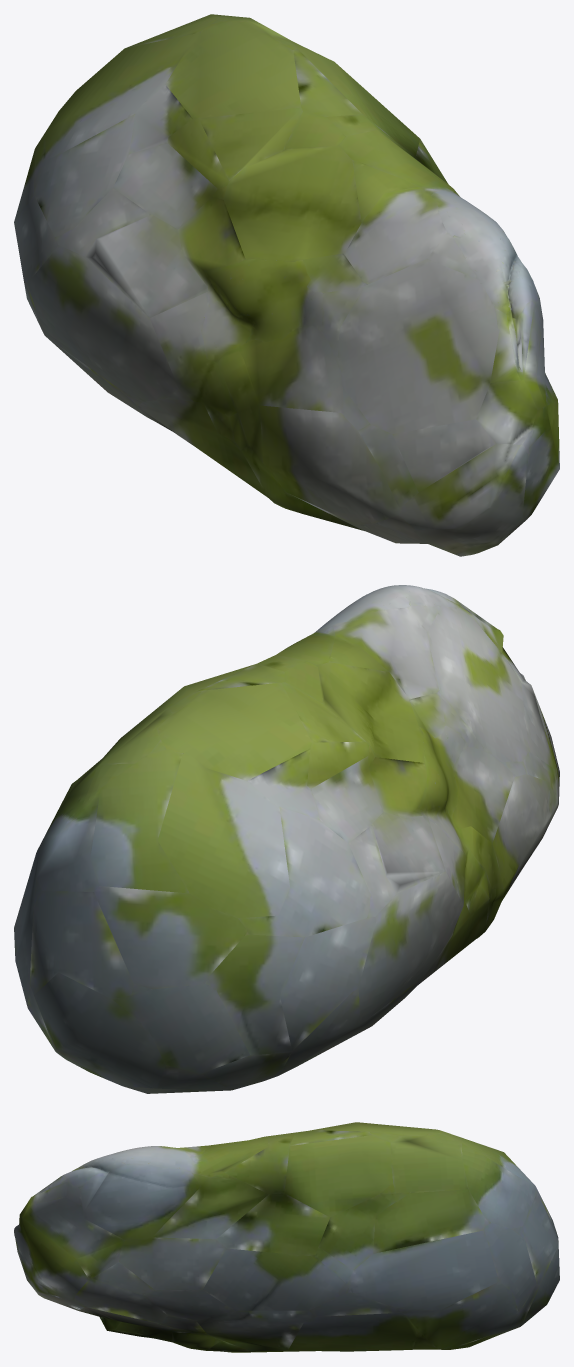
Rendered from river_boulder.glb.
The picture shows the model from 3 angles, top to bottom: view 1: azimuth 30°, elevation 25°; view 2: azimuth 150°, elevation 25°; view 3: azimuth 270°, elevation 25°; orthographic projection. The views are drawn at different scales.
Visible parts, largest first — view 1: node_0; view 2: node_0; view 3: node_0.
Boxes of the visible parts, left/top/right/bottom form: node_0: left=14, top=14, right=559, bottom=556; node_0: left=14, top=585, right=559, bottom=1093; node_0: left=14, top=1122, right=559, bottom=1352.
Size of the model in its own units: 0.5489 by 0.4827 by 1.17.
1 material, 1 textured.
